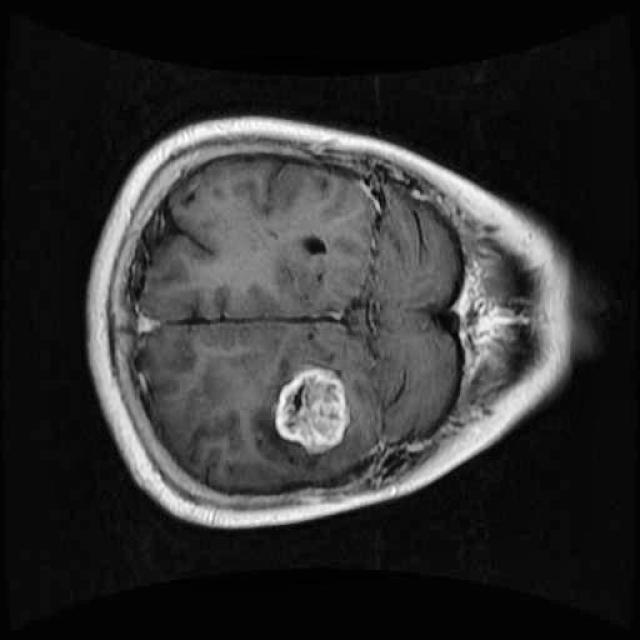Tumor: (260, 360, 364, 462)
